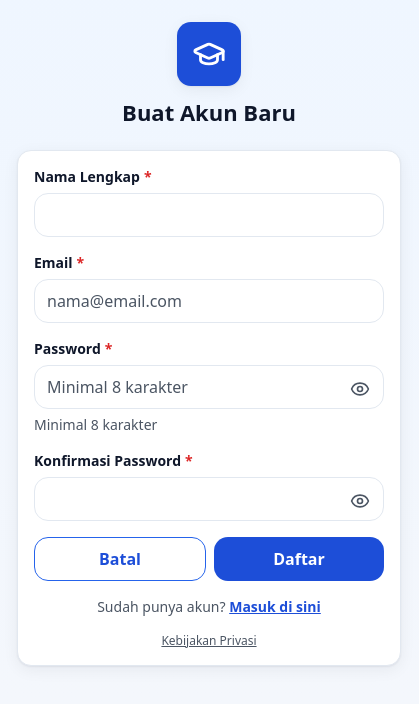
Scenario: RegisterPage › menandai email yang sudah terdaftar dari jawaban 409 server
Type "Budi Siswa" into the field labelled "Nama Lengkap*" at {"x": 209, "y": 215}, box [34,193,384,237]
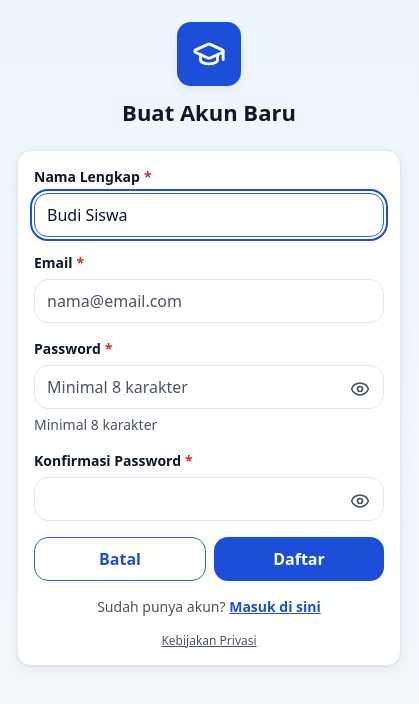
Type "budi@example.test" into the field labelled "Email*" at {"x": 209, "y": 301}, box [34,279,384,323]
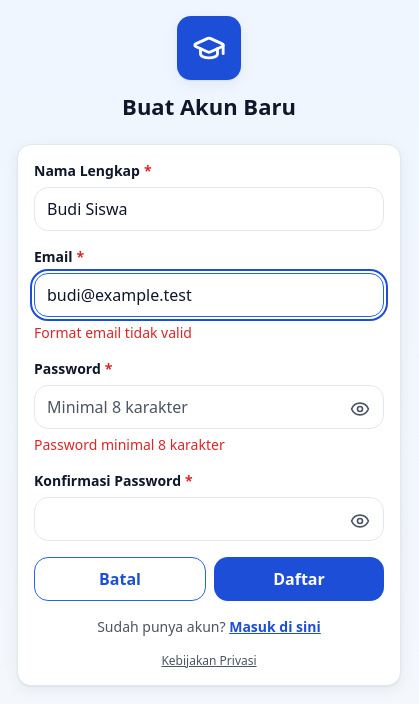
Type "PasswordKuat1" into the password field labelled "Password*" at {"x": 209, "y": 407}, box [34,385,384,429]
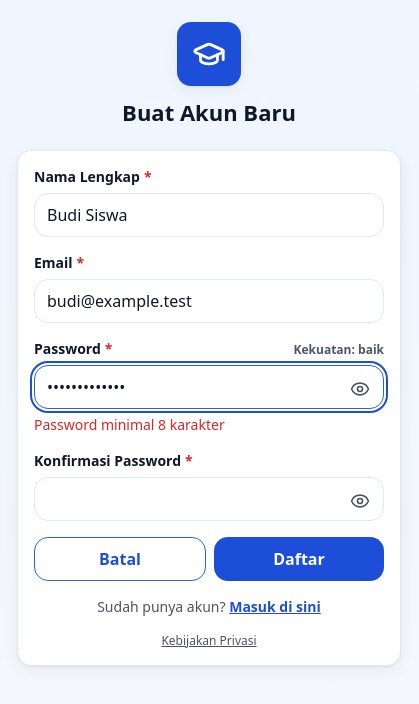
Type "PasswordKuat1" into the password field labelled "Konfirmasi Password*" at {"x": 209, "y": 499}, box [34,477,384,521]
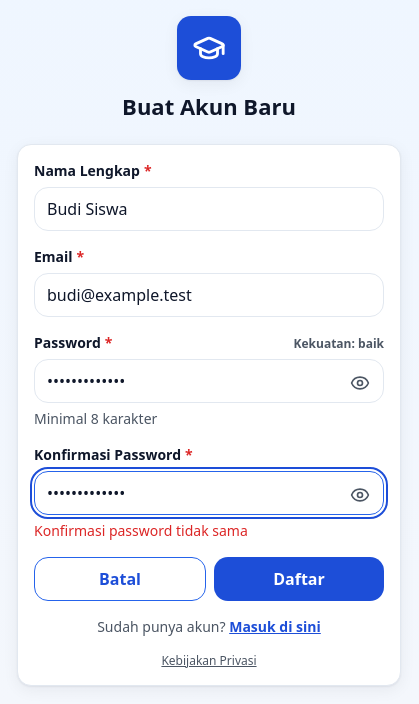
Click the button "Daftar" at {"x": 299, "y": 579}, box [214,557,384,601]
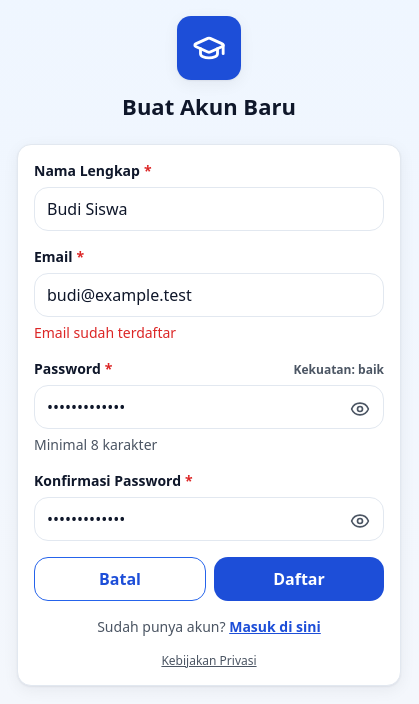
Check: the text "Email sudah terdaftar" is shown, box [34,323,176,342]
